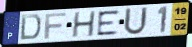1: (156, 5, 169, 35)
D: (19, 13, 43, 41)
E: (97, 9, 121, 37)
F: (43, 12, 67, 40)
H: (71, 10, 97, 39)
U: (122, 6, 149, 37)
